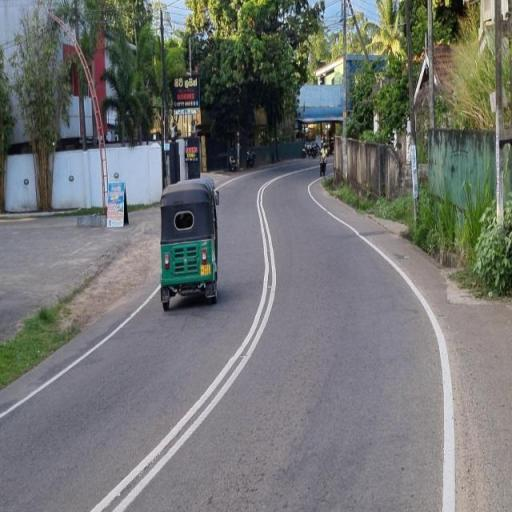double_white_line: (88, 235, 274, 512)
